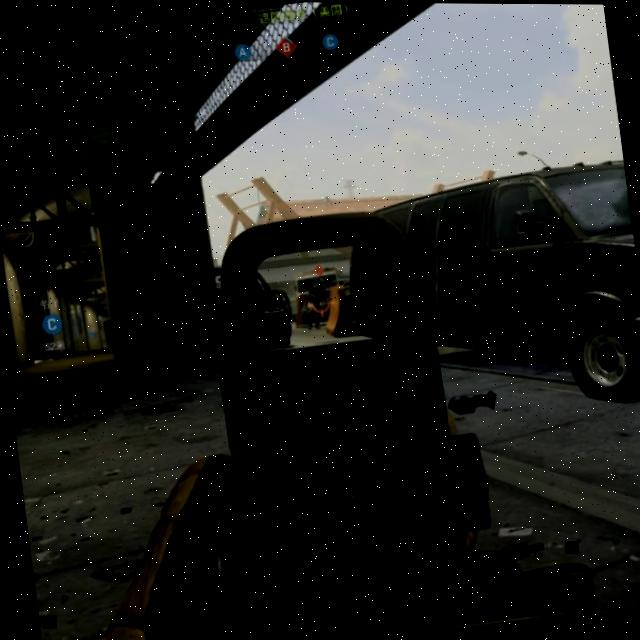MW2_body: (294, 263, 334, 331)
